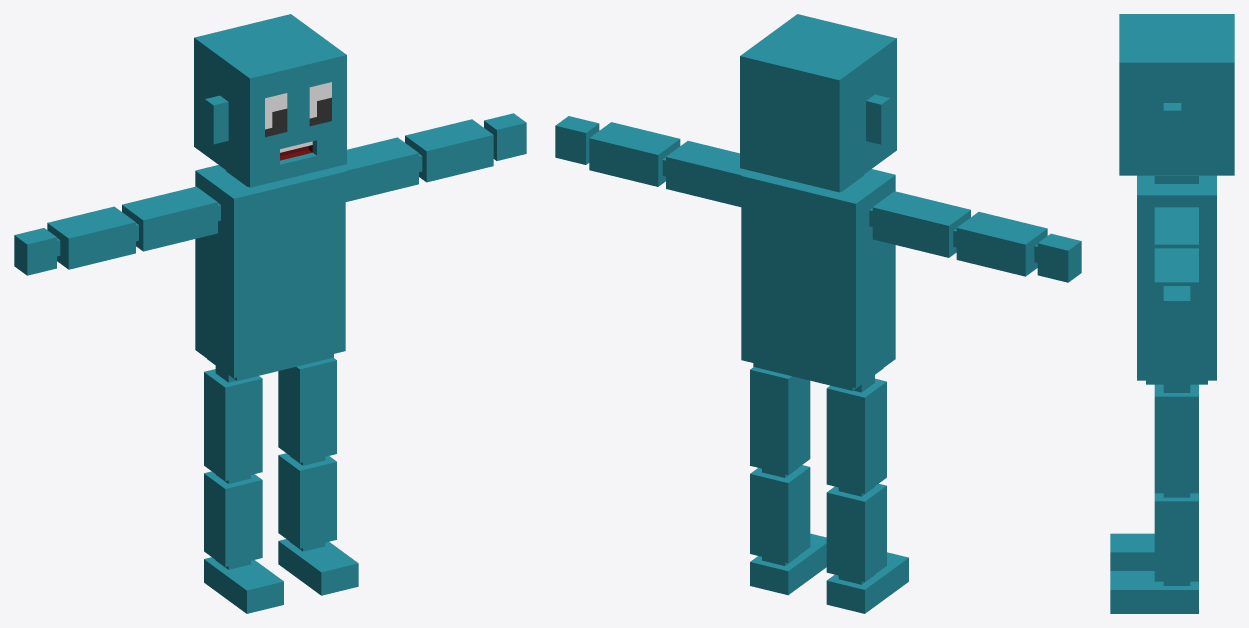
Rendered from Characters-3.obj.
The picture shows the model from 3 angles, left to right: view 1: azimuth 30°, elevation 25°; view 2: azimuth 150°, elevation 25°; view 3: azimuth 270°, elevation 25°; orthographic projection. The views are drawn at different scales.
Size of the model in its own units: 6.7 by 6.8 by 1.4.
Materials: 1 (1 with a texture image).
